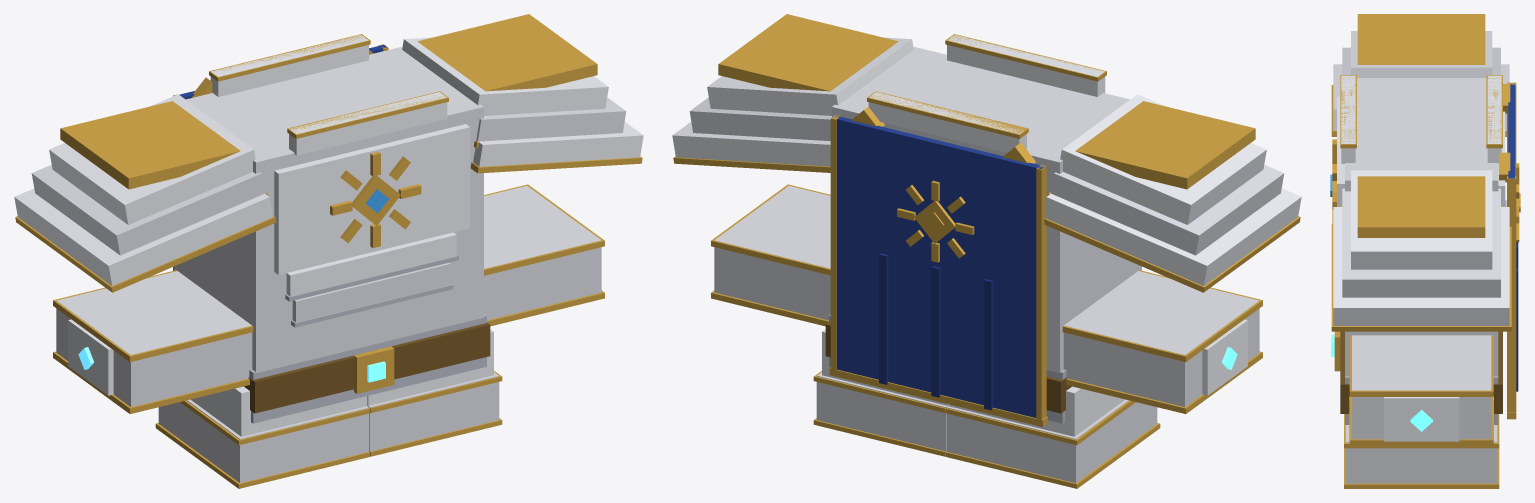
3 views of the same model, side by side, from view 1: azimuth 30°, elevation 25°; view 2: azimuth 150°, elevation 25°; view 3: azimuth 270°, elevation 25° (orthographic). The views are drawn at different scales.
Visible parts, largest first — view 1: aegis-warplate; view 2: aegis-warplate; view 3: aegis-warplate.
Part boxes in pixels (x1,y1,x2,y2): aegis-warplate: (14, 14, 643, 488); aegis-warplate: (672, 14, 1301, 488); aegis-warplate: (1330, 14, 1520, 488).
Bounding box in the file's own units: 1.29 × 0.7882 × 0.4267.
